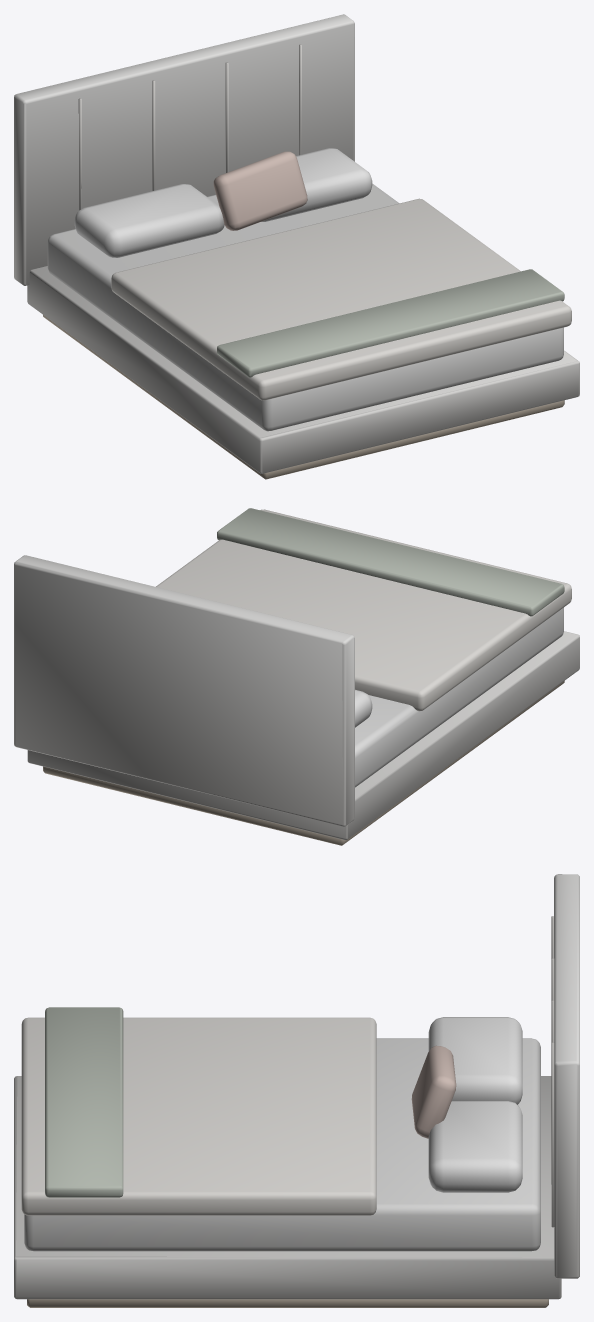
File: white_bed.glb
3 renders of one model, top to bottom at view 1: azimuth 30°, elevation 25°; view 2: azimuth 150°, elevation 25°; view 3: azimuth 270°, elevation 25°, orthographic. The views are drawn at different scales.
Visible parts, largest first — view 1: white_bed; view 2: white_bed; view 3: white_bed.
Boxes of the visible parts, left/top/right/bottom form: white_bed: left=14, top=14, right=579, bottom=479; white_bed: left=14, top=508, right=579, bottom=845; white_bed: left=14, top=874, right=579, bottom=1307.
Size of the model in its own units: 1.72 by 1.08 by 2.17.
